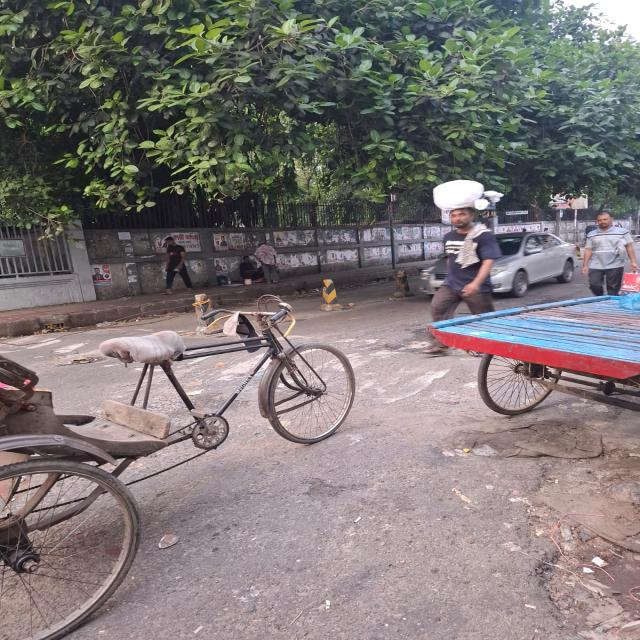person: (424, 208, 501, 355), (582, 212, 638, 296)
